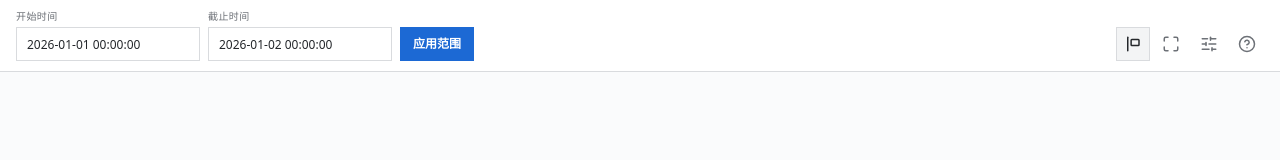
TimeRangeControls › clears validation errors immediately when 截止时间 changes
Replace the text in the field labelled "截止时间" with "2026-01-01T00:00:30" at (300, 44), box [209,28,391,60]
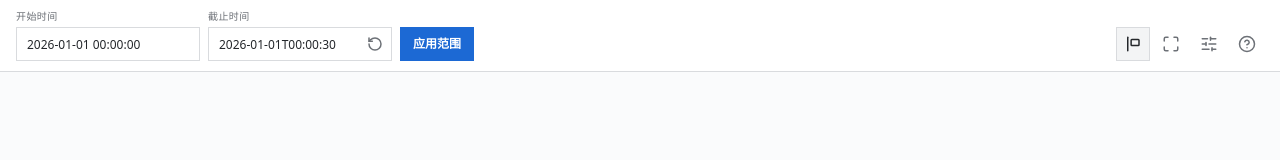
Click the button "应用范围" at (437, 44), box [400,27,474,61]
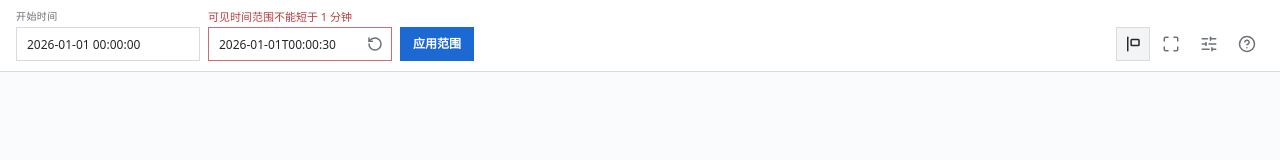
Replace the text in the field named "截止时间" with "2026-01-01T00:02:00" at (285, 44), box [209,28,361,60]
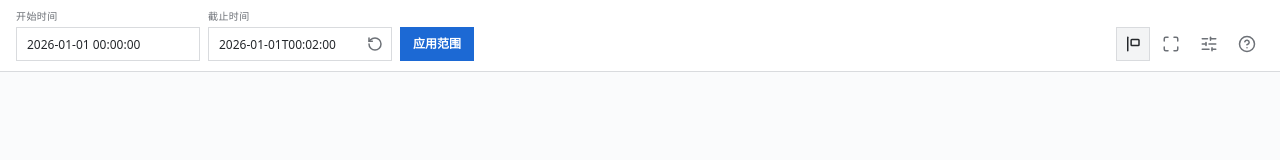
Check: the text "可见时间范围不能短于 1 分钟" is gone
